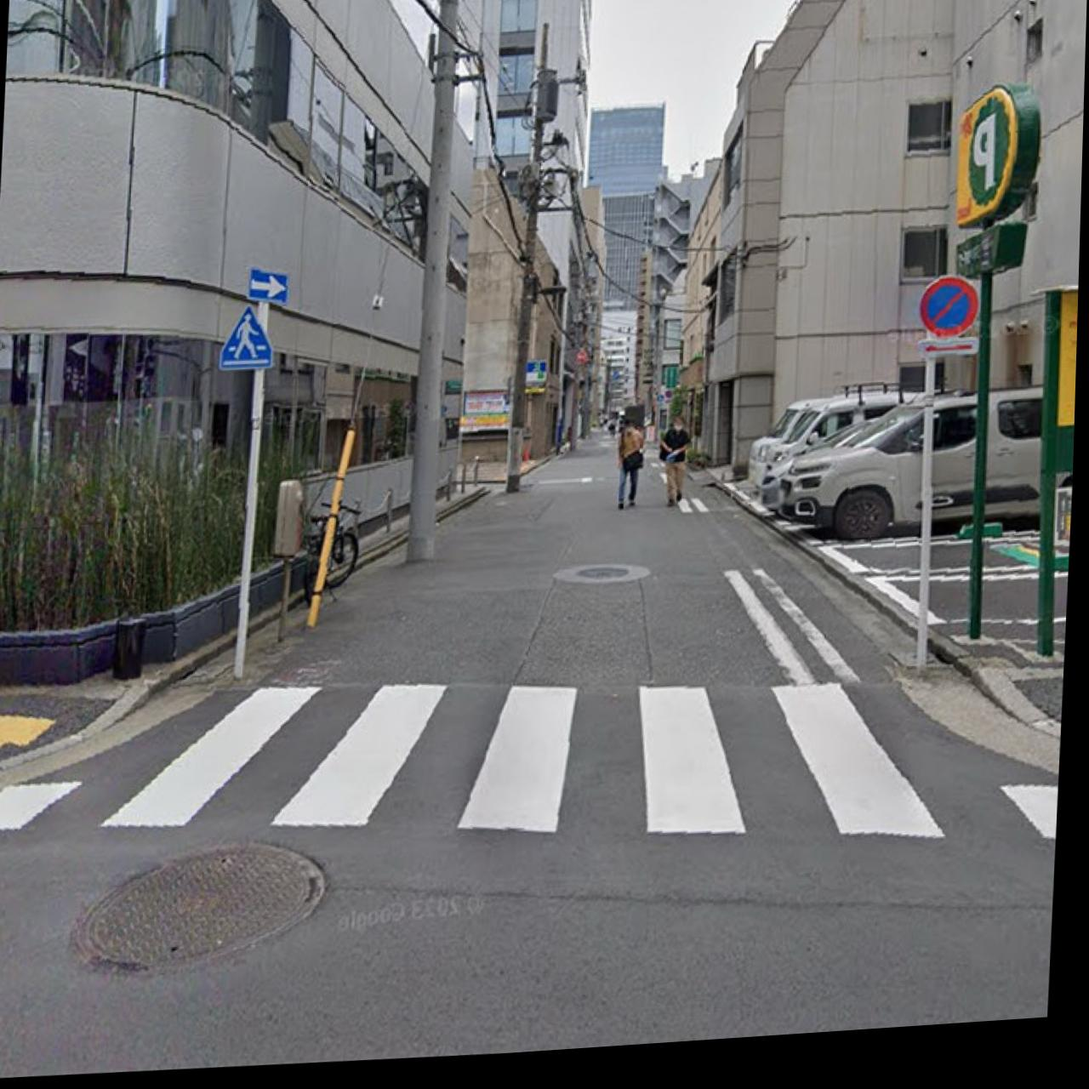cone: (150, 192, 398, 496)
stop_sign: (915, 266, 979, 343)
